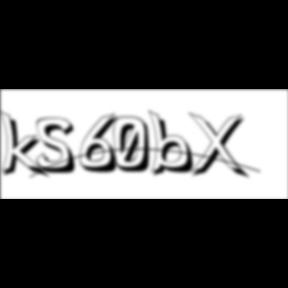0: (114, 115, 158, 174)
6: (80, 112, 124, 176)
S: (37, 117, 83, 176)
X: (188, 112, 252, 182)
b: (147, 109, 200, 179)
k: (0, 108, 52, 181)
